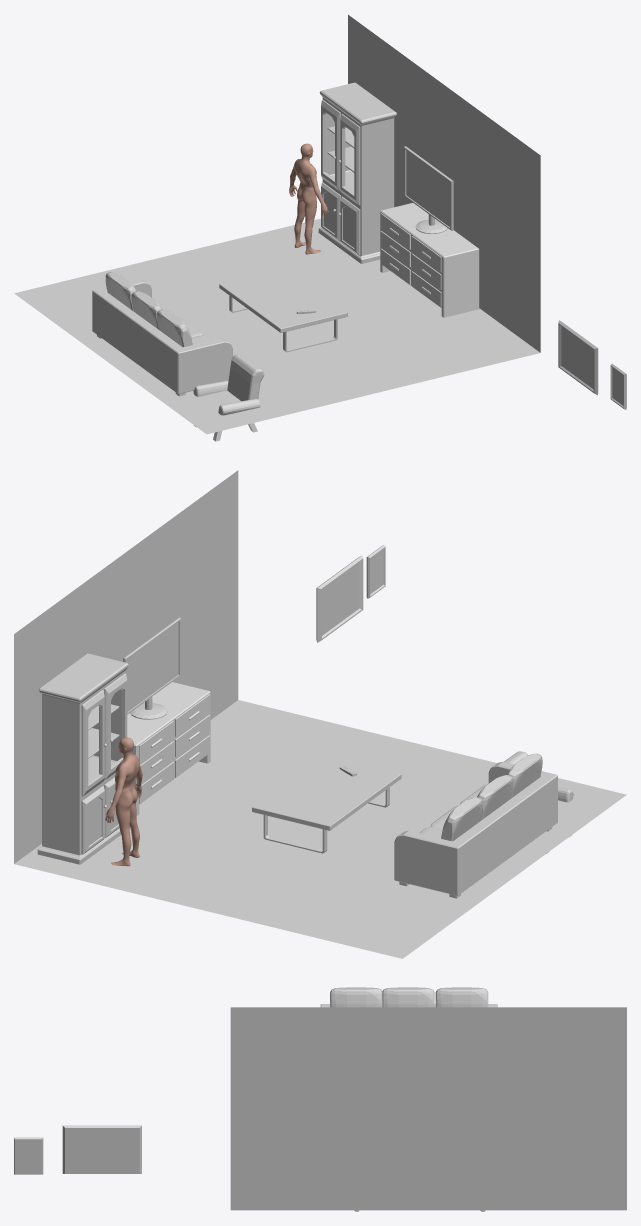
File: Lounge_Chair.fbx
The picture shows the model from 3 angles, top to bottom: view 1: azimuth 30°, elevation 25°; view 2: azimuth 150°, elevation 25°; view 3: azimuth 270°, elevation 25°; orthographic projection. The views are drawn at different scales.
Visible parts, largest first — view 1: Cube.009, Cube.012, Cube.019, Cube.002, Cube, Cube.004, Cube.036, HumanBody:humanBody, Cube.030, Cube.016, Cube.062, Cube.022 (+5 smaller); view 2: Cube.009, Cube.012, Cube.019, Cube.002, Cube.004, Cube, Cube.030, HumanBody:humanBody, Cube.062, Cube.013, Cube.016, Cube.020 (+7 smaller); view 3: Cube.009, Cube.030, Cube.031, Cube.020, Cube.021, Cube.023.
Part boxes in pixels (<box>): Cube.009: <box>14,15,540,434</box>; Cube.012: <box>318,82,396,263</box>; Cube.019: <box>92,279,232,396</box>; Cube.002: <box>219,268,347,352</box>; Cube: <box>380,203,479,317</box>; Cube.004: <box>404,146,453,230</box>; Cube.036: <box>193,354,264,441</box>; HumanBody:humanBody: <box>289,143,328,254</box>; Cube.030: <box>558,320,598,395</box>; Cube.016: <box>338,114,360,205</box>; Cube.062: <box>321,99,340,191</box>; Cube.022: <box>338,196,360,255</box>; Cube.009: <box>14,470,626,958</box>; Cube.012: <box>37,653,129,864</box>; Cube.019: <box>394,761,557,898</box>; Cube.002: <box>252,755,401,853</box>; Cube.004: <box>123,617,180,714</box>; Cube: <box>127,682,210,815</box>; Cube.030: <box>316,555,363,642</box>; HumanBody:humanBody: <box>105,737,142,866</box>; Cube.062: <box>81,690,107,796</box>; Cube.013: <box>81,786,106,854</box>; Cube.016: <box>104,673,127,779</box>; Cube.020: <box>441,797,482,841</box>; Cube.009: <box>230,1007,626,1210</box>; Cube.030: <box>62,1125,141,1173</box>; Cube.031: <box>14,1137,43,1174</box>; Cube.020: <box>435,987,488,1007</box>; Cube.021: <box>330,987,382,1007</box>; Cube.023: <box>382,987,434,1007</box>.
Size of the model in its own units: 601 by 387 by 929.
